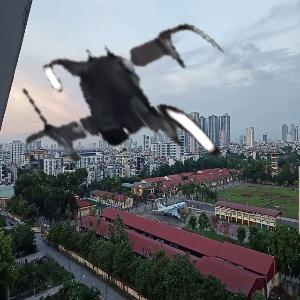drone: (13, 1, 253, 241)
